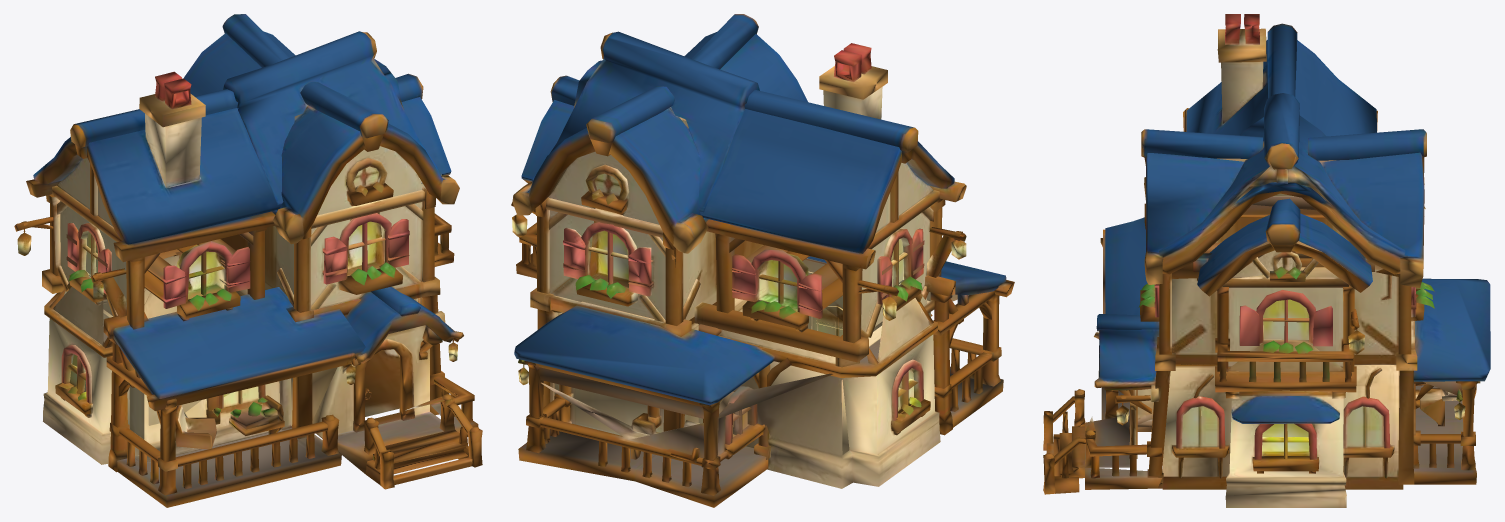
3 views of the same model, side by side, from view 1: azimuth 30°, elevation 25°; view 2: azimuth 150°, elevation 25°; view 3: azimuth 270°, elevation 25° (orthographic). The views are drawn at different scales.
Parts seen in each view (by area): view 1: house-tier4; view 2: house-tier4; view 3: house-tier4.
Part boxes in pixels (box(x1,y1,x2,y2)): house-tier4: box(14, 14, 482, 507); house-tier4: box(511, 14, 1014, 507); house-tier4: box(1043, 14, 1490, 507).
Bounding box in the file's own units: 7.25 × 6.83 × 7.45.
1 material, 1 textured.
